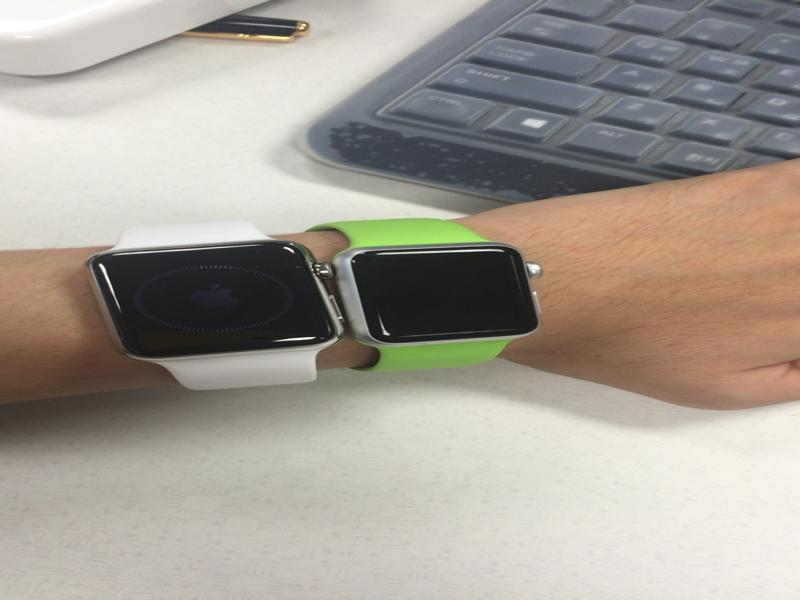watch: (89, 216, 345, 408), (310, 212, 548, 379)
